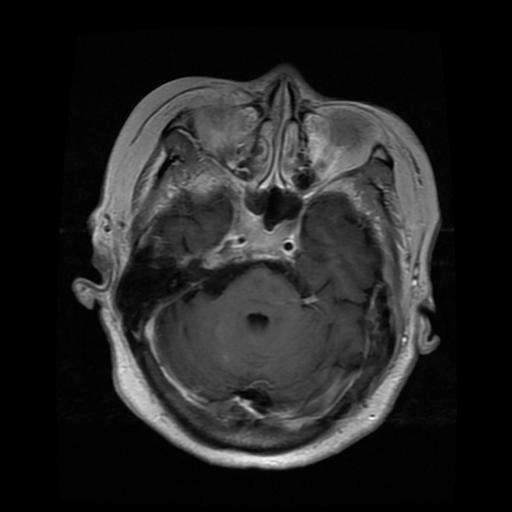Tumour-Pituitary: (223, 221, 301, 269)
